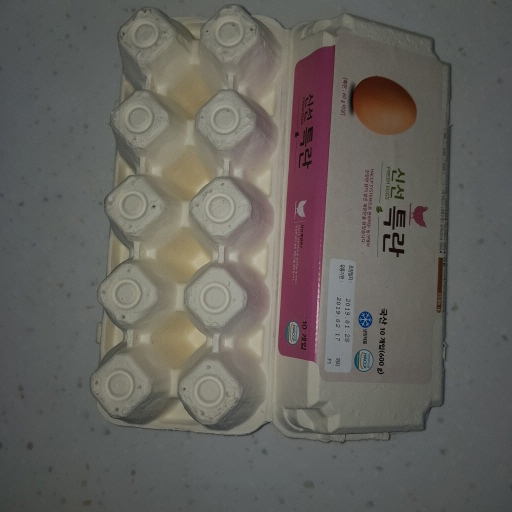Paper_0: (85, 8, 462, 449)
